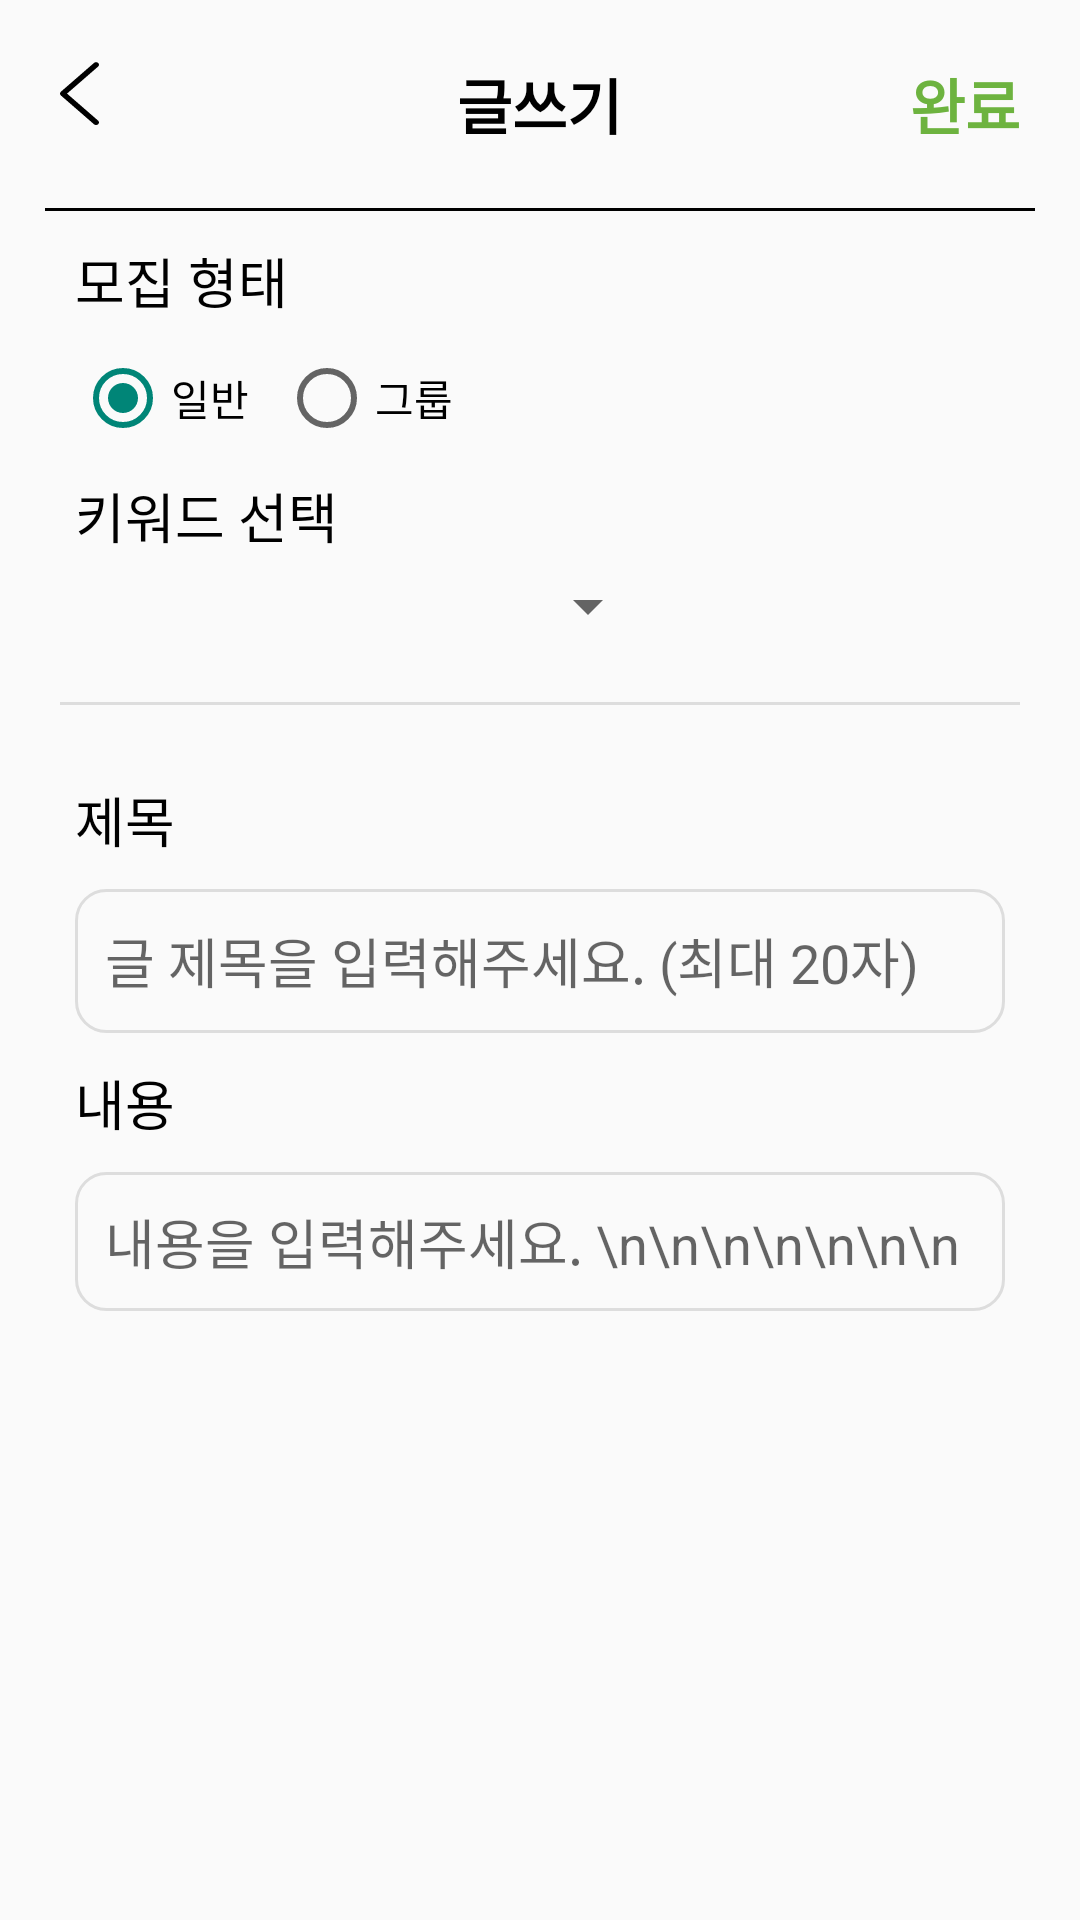

Named icons in this screenshot (1080*1920) and their bounding boxes, [x1, y1, x2, y2]:
before: [60, 62, 99, 125]
